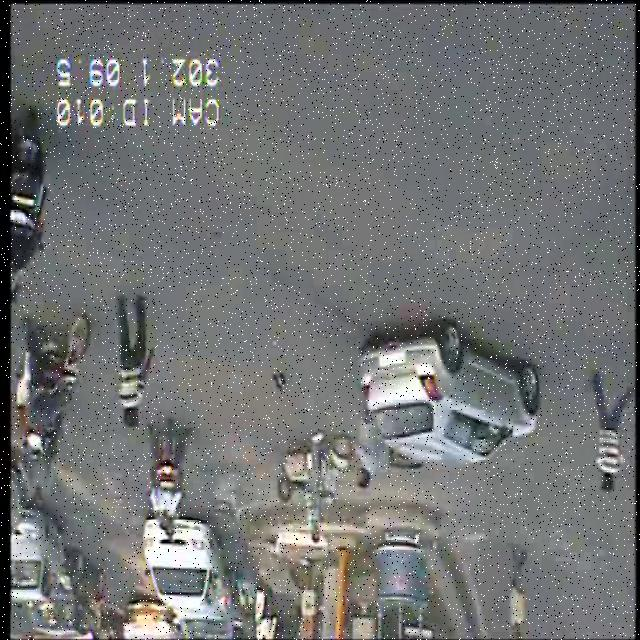accidents: (265, 348, 434, 503)
